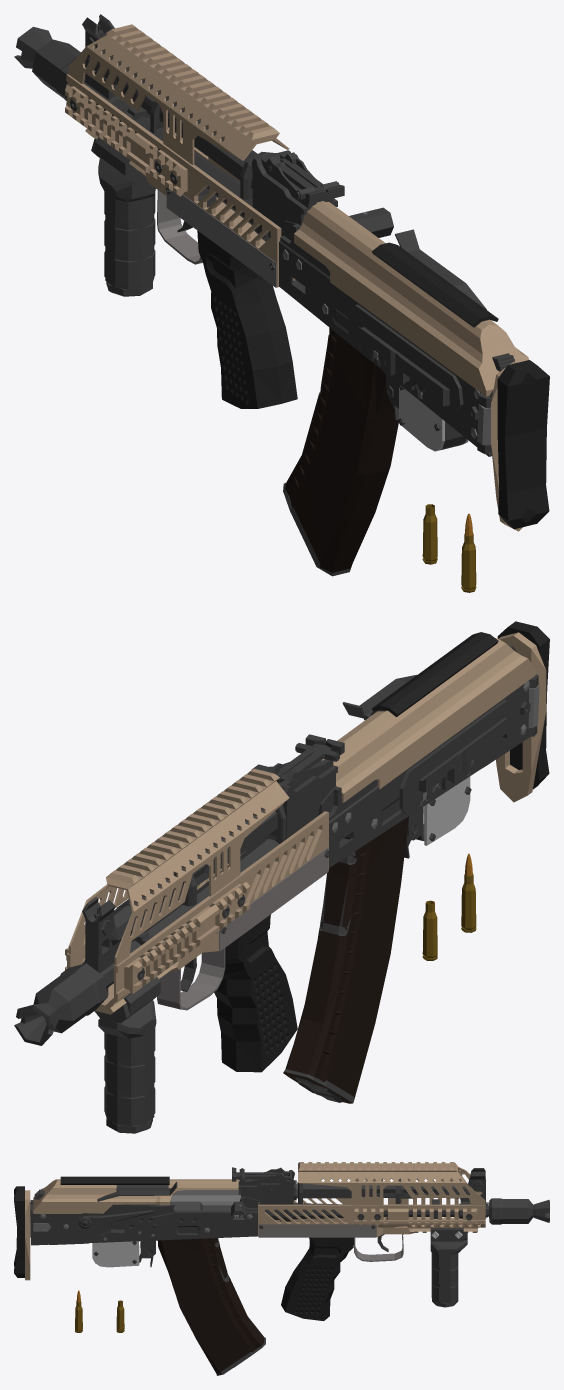
The model's file is low-poly_ak-105_kochevnik_bullpup.glb.
3 views of the same model, one above another, from view 1: azimuth 30°, elevation 25°; view 2: azimuth 150°, elevation 25°; view 3: azimuth 270°, elevation 25° (orthographic). The views are drawn at different scales.
Parts seen in each view (by area): view 1: receiver_9, shiny_plum_3, dust_cover_19, handguard_lower_14, Cube_20, grip_16, folding_stock_18, mount_straight_12, Circle_26, gas_tube_17, rear_sight_11, brass_deflector_22 (+3 smaller); view 2: receiver_9, shiny_plum_3, handguard_lower_14, dust_cover_19, Cube_20, grip_16, mount_straight_12, folding_stock_18, Circle_26, gas_tube_17, rear_sight_11, casing_545_21 (+2 smaller); view 3: receiver_9, shiny_plum_3, handguard_lower_14, Cube_20, dust_cover_19, grip_16, mount_straight_12, safety_selector_5, bolt_carrier_23, gas_tube_17, folding_stock_18, Circle_26 (+2 smaller).
Part boxes in pixels (box(x1,y1,x2,y2)): receiver_9: box(82, 14, 492, 456); shiny_plum_3: box(283, 327, 398, 576); dust_cover_19: box(294, 201, 529, 396); handguard_lower_14: box(65, 74, 295, 287); Cube_20: box(68, 24, 289, 164); grip_16: box(197, 230, 297, 408); folding_stock_18: box(477, 360, 549, 531); mount_straight_12: box(91, 137, 155, 296); Circle_26: box(14, 26, 85, 101); gas_tube_17: box(116, 68, 276, 199); rear_sight_11: box(269, 158, 344, 204); brass_deflector_22: box(395, 229, 486, 309); receiver_9: box(82, 680, 530, 995); shiny_plum_3: box(283, 816, 408, 1103); handguard_lower_14: box(65, 811, 330, 1014); dust_cover_19: box(321, 632, 535, 802); Cube_20: box(68, 768, 289, 965); grip_16: box(214, 914, 297, 1072); mount_straight_12: box(94, 977, 160, 1133); folding_stock_18: box(496, 621, 549, 802); Circle_26: box(14, 963, 107, 1045); gas_tube_17: box(117, 804, 286, 926); rear_sight_11: box(276, 734, 344, 782); casing_545_21: box(422, 900, 437, 960); receiver_9: box(31, 1167, 489, 1267); shiny_plum_3: box(157, 1238, 265, 1375); handguard_lower_14: box(258, 1193, 485, 1261); Cube_20: box(298, 1162, 485, 1205); dust_cover_19: box(33, 1176, 239, 1213); grip_16: box(281, 1237, 353, 1320); mount_straight_12: box(430, 1228, 467, 1307); safety_selector_5: box(76, 1204, 174, 1238); bolt_carrier_23: box(170, 1184, 309, 1223); gas_tube_17: box(293, 1179, 446, 1204); folding_stock_18: box(14, 1186, 30, 1280); Circle_26: box(489, 1198, 549, 1224).
Size of the model in its own units: 0.077 by 0.2768 by 0.6436.
